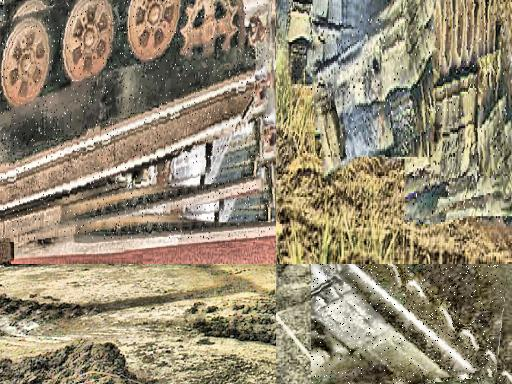tanks: (1, 1, 271, 240), (406, 1, 509, 225), (313, 265, 503, 384), (309, 14, 435, 158), (288, 1, 324, 84)
